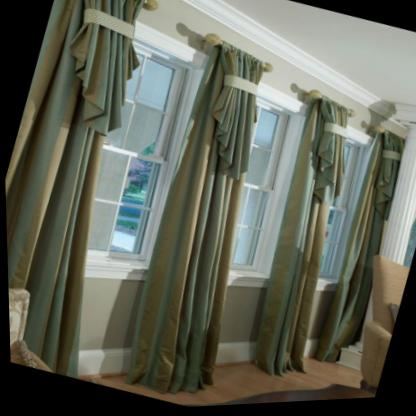Curtains: (5, 0, 145, 380), (130, 49, 270, 395), (253, 101, 349, 380), (315, 135, 403, 366)
